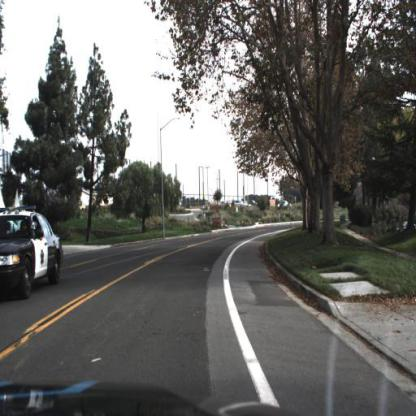car: (1, 205, 65, 302)
